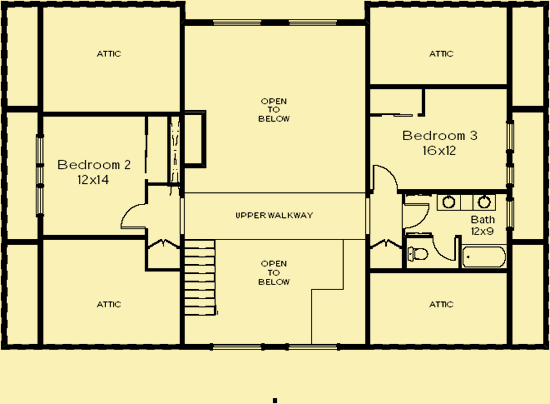door: (401, 202, 431, 229), (120, 201, 147, 230), (372, 166, 399, 193), (432, 234, 457, 263)
large_sink: (407, 243, 430, 264)
small_sink: (435, 193, 497, 212)
stairs: (180, 239, 219, 316)
tub: (460, 241, 507, 270)
window: (33, 133, 46, 217), (282, 342, 341, 353), (212, 16, 264, 28), (286, 16, 340, 27), (505, 119, 517, 155), (210, 342, 264, 350), (505, 197, 516, 231), (506, 162, 514, 191)
